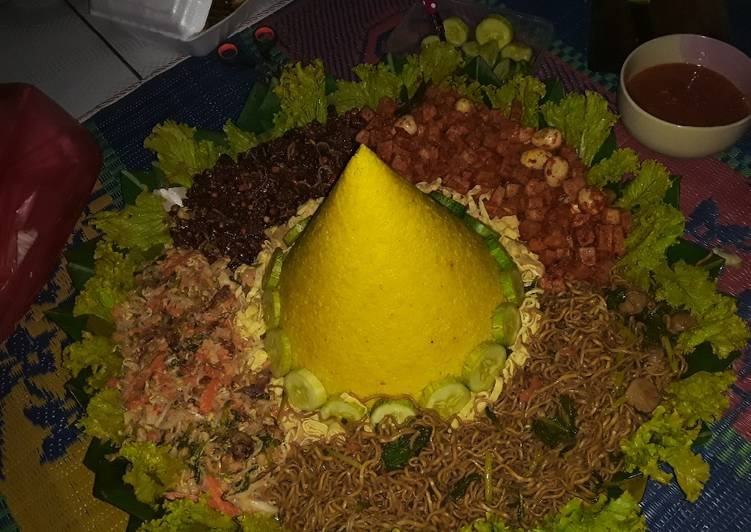nasi_tumpeng: (121, 89, 628, 488)
